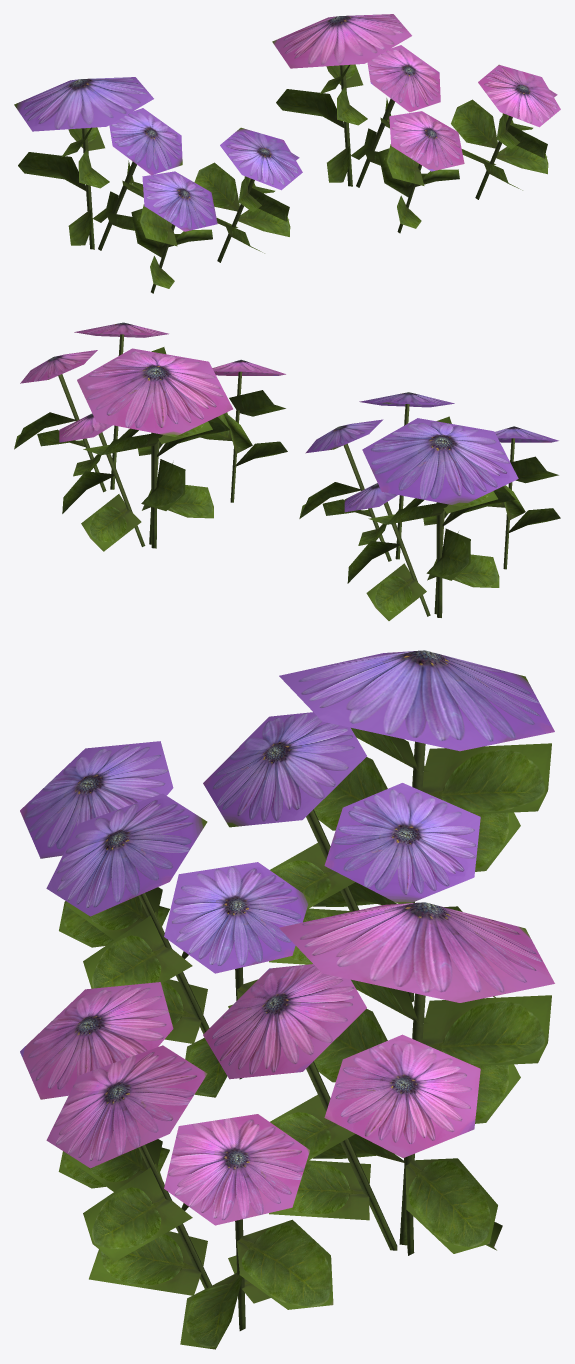
File: flower_01_m.FBX
The picture shows the model from 3 angles, top to bottom: view 1: azimuth 30°, elevation 25°; view 2: azimuth 150°, elevation 25°; view 3: azimuth 270°, elevation 25°; orthographic projection. The views are drawn at different scales.
Parts seen in each view (by area): view 1: flower017, flower4, flower007, flower016, flower011, flower015; view 2: flower017, flower4, flower007, flower016, flower011, flower015; view 3: flower4, flower017, flower007, flower016, flower011, flower015.
Part boxes in pixels (box(x1,y1,x2,y2)): flower017: box(14, 77, 182, 250); flower4: box(272, 14, 440, 187); flower007: box(451, 64, 560, 199); flower016: box(194, 127, 302, 262); flower011: box(378, 111, 464, 233); flower015: box(131, 171, 217, 293); flower017: box(344, 418, 518, 620); flower4: box(59, 348, 232, 551); flower007: box(14, 322, 168, 492); flower016: box(299, 392, 454, 561); flower011: box(200, 359, 287, 502); flower015: box(488, 426, 560, 569); flower4: box(203, 902, 554, 1255); flower017: box(203, 650, 554, 1001); flower007: box(46, 1045, 333, 1349); flower016: box(46, 793, 309, 1097); flower011: box(20, 982, 194, 1188); flower015: box(20, 741, 173, 947).
Size of the model in its own units: 70.56 by 23.52 by 33.84.
